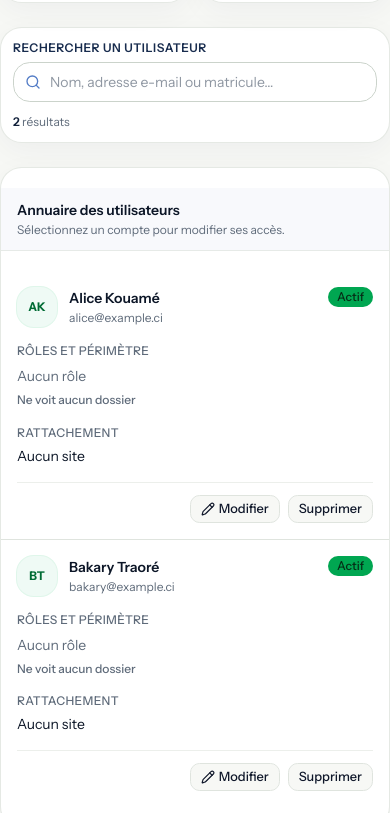
Scenario: Passer d’un compte à l’autre sans refermer le formulaire › affiche le compte réellement sélectionné
(page scrolled)
Click the button "Modifier" below "Alice Kouamé".
click(235, 509)  # box 190,495 -> 280,523
(page scrolled)
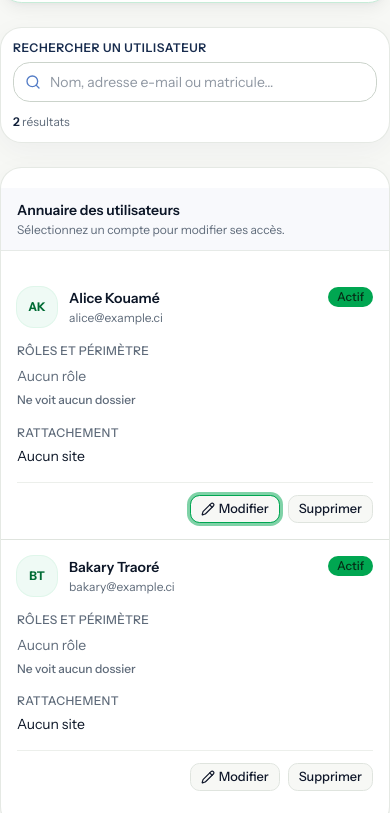
Rien n'empêche de cliquer « Modifier » sur une autre ligne : le formulaire reste ouvert.
Click the button "Modifier" below "BT".
click(235, 777)  # box 190,763 -> 280,791
(page scrolled)
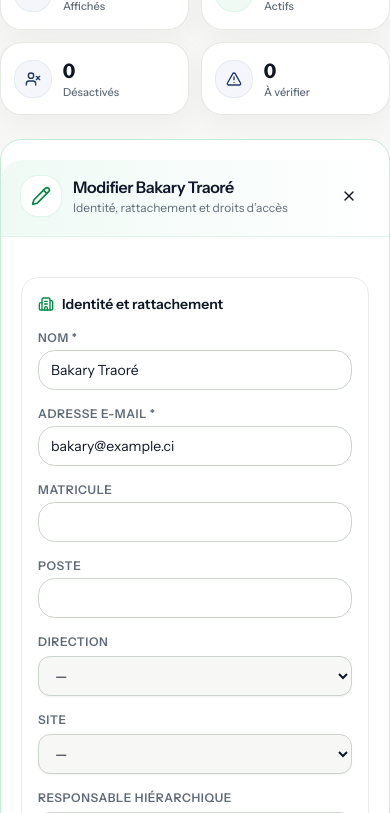
Now the field labelled "Nom *" holds "Bakary Traoré", box 38,350 -> 352,390
Now the field labelled "Adresse e-mail *" holds "bakary@example.ci", box 38,426 -> 352,466
